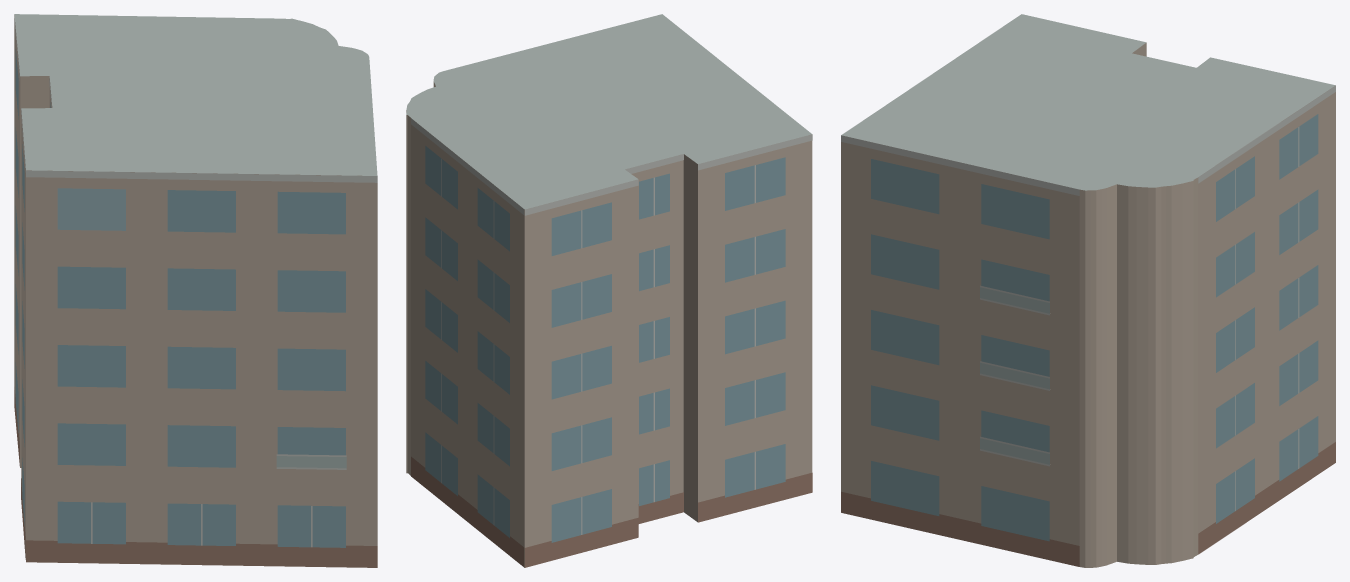
File: survey-upis-32778355.glb
3 renders of one model, left to right at view 1: azimuth 30°, elevation 25°; view 2: azimuth 150°, elevation 25°; view 3: azimuth 270°, elevation 25°, orthographic. The views are drawn at different scales.
Parts seen in each view (by area): view 1: survey-upis-32778355.tmp; view 2: survey-upis-32778355.tmp; view 3: survey-upis-32778355.tmp.
Boxes of the visible parts, x1=… form: survey-upis-32778355.tmp: x1=14, y1=14, x2=377, y2=567; survey-upis-32778355.tmp: x1=406, y1=14, x2=812, y2=567; survey-upis-32778355.tmp: x1=841, y1=14, x2=1335, y2=567.
Size of the model in its own units: 14.04 by 14 by 16.64.
